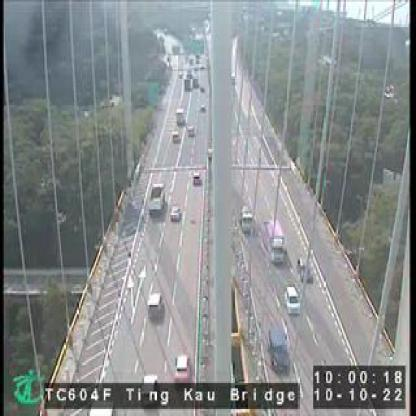Car: (269, 333, 290, 373), (174, 352, 192, 382), (296, 256, 314, 282), (286, 284, 300, 312), (172, 206, 182, 222), (193, 171, 202, 185), (173, 131, 181, 144), (187, 124, 195, 137), (199, 101, 206, 111)
Truck: (141, 373, 160, 408), (149, 183, 165, 216), (270, 228, 284, 265), (147, 290, 163, 320), (242, 208, 254, 235), (177, 108, 186, 126)
